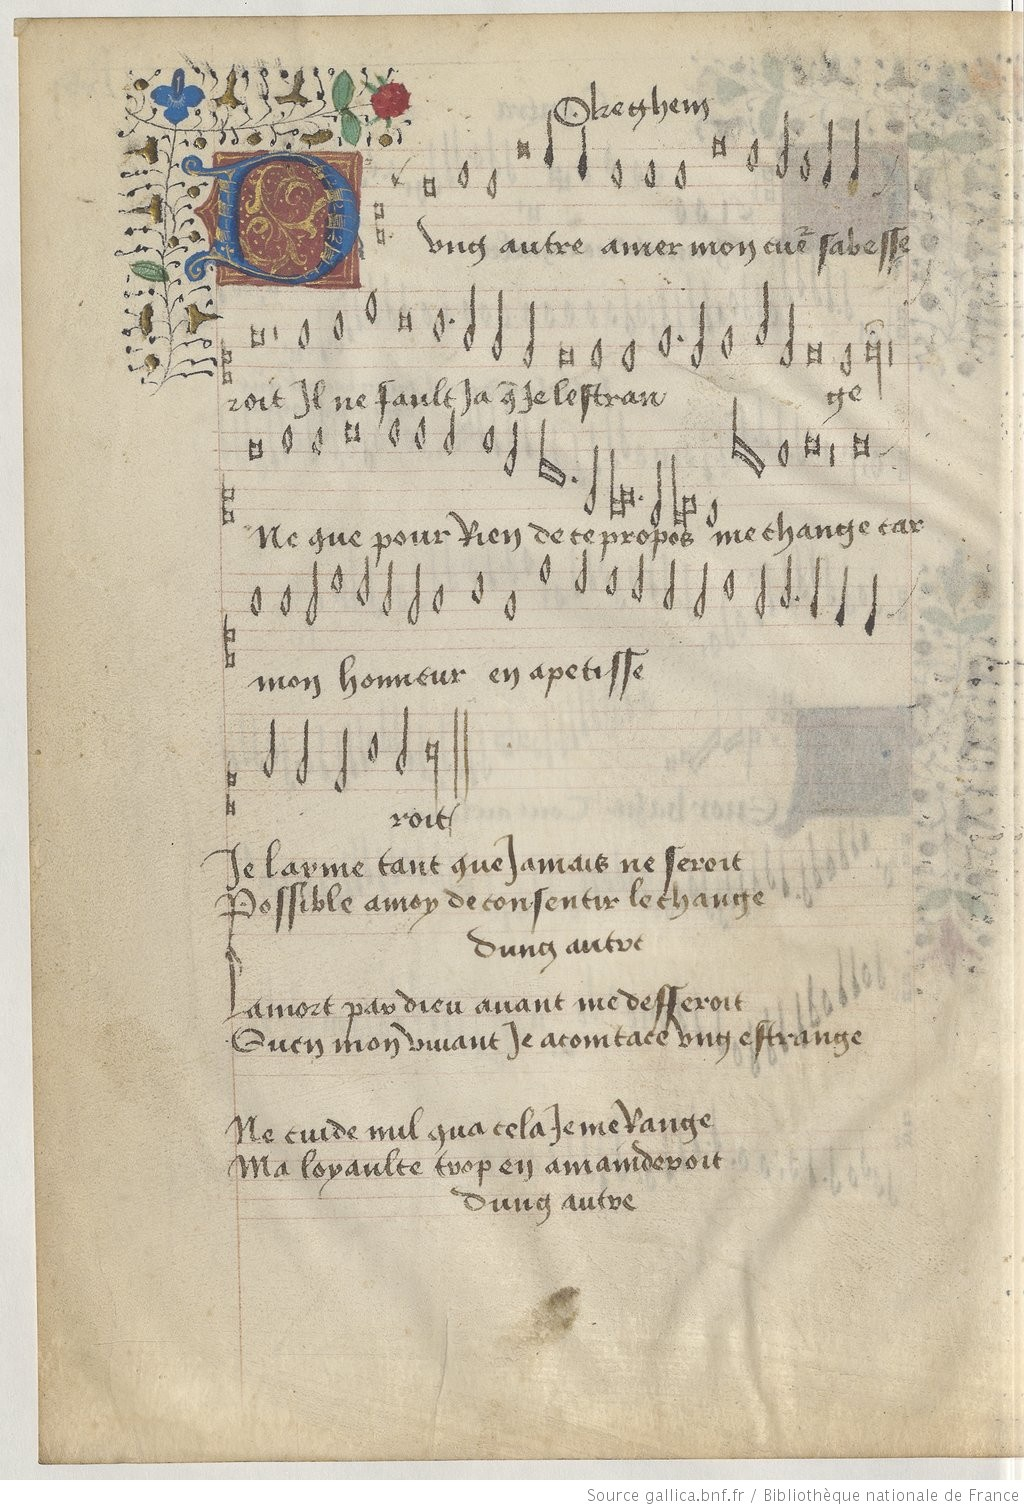breve rest: (882, 291, 898, 371)
breve_10: (549, 335, 581, 374), (800, 335, 827, 373)
breve_6: (393, 306, 417, 341)
breve_8: (245, 318, 270, 355)
c clef_11: (216, 336, 235, 392)
custos_5: (897, 267, 938, 315)
fermata: (854, 299, 897, 345)
longa_10: (862, 337, 885, 404)
minim_10: (517, 291, 539, 377), (776, 296, 799, 377), (687, 293, 709, 376)
minim_8: (457, 279, 480, 362), (751, 278, 774, 355)
minim_9: (487, 283, 509, 370)
point: (442, 309, 461, 333), (672, 326, 688, 349)
semibreve rest: (267, 283, 283, 370)
semibreve_10: (617, 331, 645, 381), (585, 328, 611, 377)
semibreve_11: (835, 336, 858, 384)
semibreve_5: (359, 282, 384, 333)
semibreve_7: (327, 301, 352, 351), (427, 297, 450, 351)
semibreve_8: (293, 309, 315, 359)
semibreve_9: (655, 315, 678, 368), (715, 319, 741, 366)
